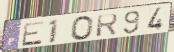1: (48, 18, 59, 45)
4: (145, 6, 165, 33)
9: (123, 10, 141, 35)
E: (20, 20, 46, 47)
O: (70, 15, 95, 42)
R: (95, 13, 119, 38)
